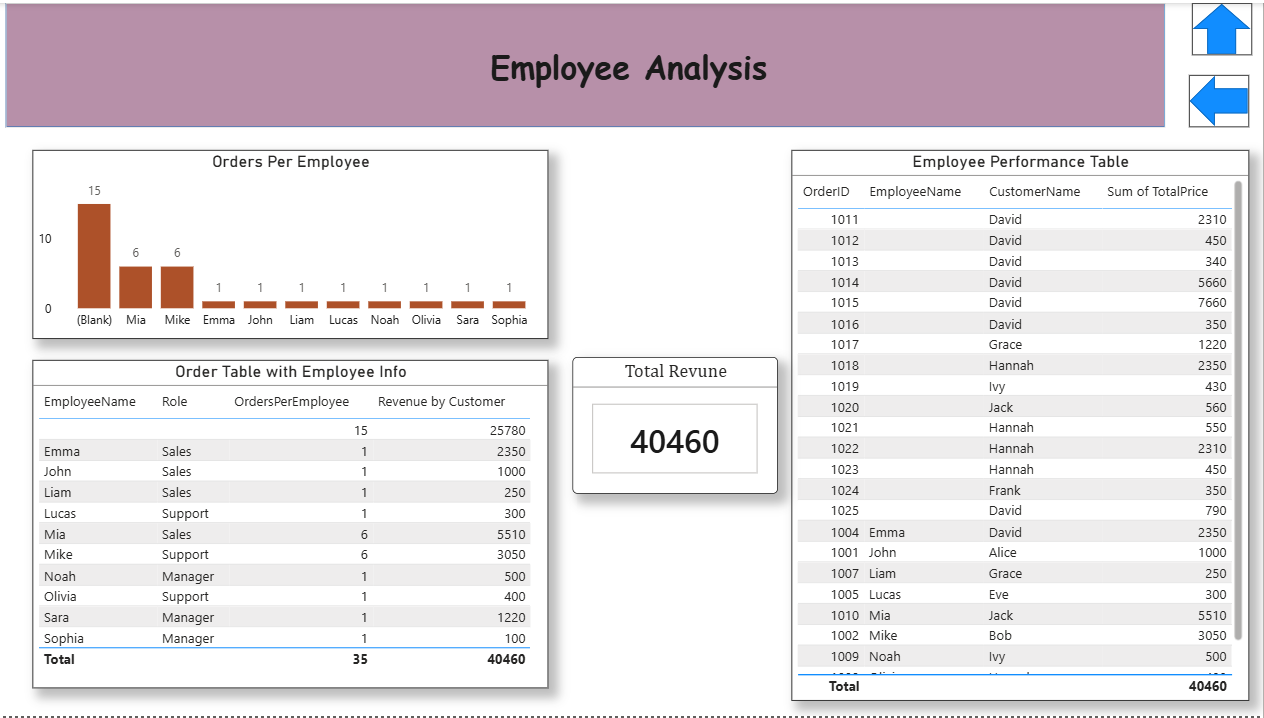

This screenshot's page, from the dashboard's own definition file:
{"tool":"powerbi","page":{"name":"Employee Analysis","canvas":[1280,720],"ordinal":4},"visuals":[{"type":"shape","box":[10.6,0,1170.5,125.7],"z":0},{"type":"textbox","box":[11,190,1060,150],"z":1000},{"type":"shape","box":[1208.3,0,60.6,53],"z":2000},{"type":"shape","box":[1205.3,72.7,60.6,53],"z":3000},{"type":"textbox","box":[434.6,36.3,410.3,71.2],"z":4000},{"type":"columnChart","title":"Orders Per Employee ","fields":{"Category":["People.EmployeeName"],"Y":["People.OrdersPerEmployee"]},"box":[37.9,148.4,520.9,190.8],"z":5000},{"type":"tableEx","title":"Order Table with Employee Info","fields":{"Values":["People.EmployeeName","People.Role","People.OrdersPerEmployee","Orders.Revenue by Customer"]},"box":[37.9,360.4,520.9,331.6],"z":6000},{"type":"tableEx","title":"Employee Performance Table","fields":{"Values":["Orders.OrderID","People.EmployeeName","Customers.CustomerName","Orders.TotalPrice"]},"box":[804,148.4,461.8,555.7],"z":7000},{"type":"cardVisual","title":"Total Revune","fields":{"Data":["Orders.TotalPrice"]},"box":[583,357.4,207.4,137.8],"z":8000}]}

Visuals, with their boxes in screenshot pixels (x1, y1, x2, y2), scaled from the page's 1280x720 canvas onto the 1264x718 screenshot:
shape: l=10, t=0, r=1166, b=125
textbox: l=11, t=189, r=1058, b=339
shape: l=1193, t=0, r=1253, b=53
shape: l=1190, t=72, r=1250, b=125
textbox: l=429, t=36, r=834, b=107
"Orders Per Employee " columnChart: l=37, t=148, r=552, b=338
"Order Table with Employee Info" tableEx: l=37, t=359, r=552, b=690
"Employee Performance Table" tableEx: l=794, t=148, r=1250, b=702
"Total Revune" cardVisual: l=576, t=356, r=781, b=494
